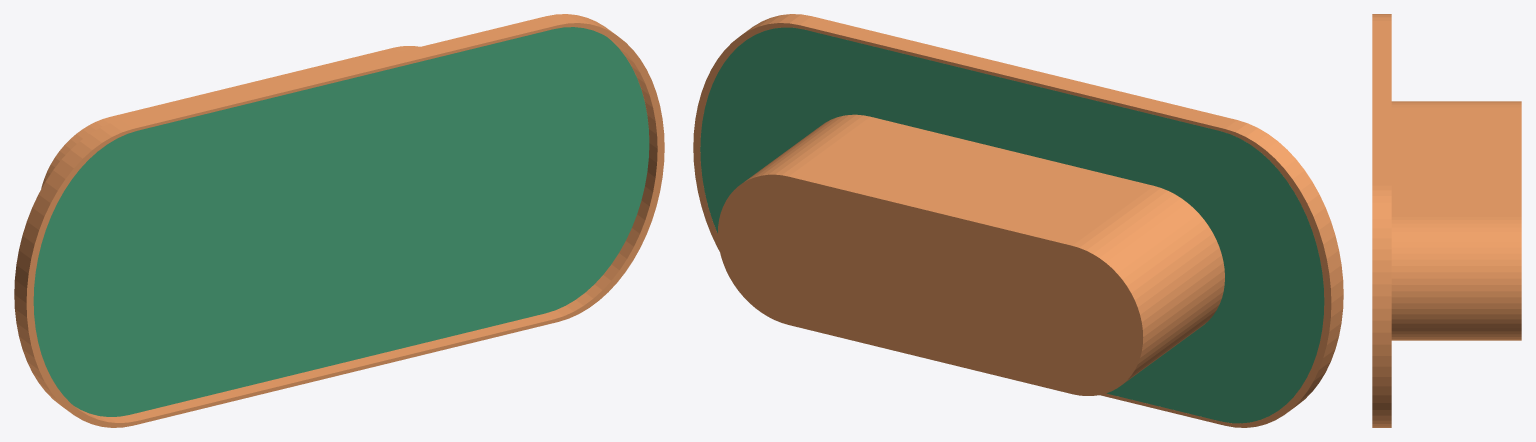
File: tinker.gltf
The picture shows the model from 3 angles, left to right: view 1: azimuth 30°, elevation 25°; view 2: azimuth 150°, elevation 25°; view 3: azimuth 270°, elevation 25°; orthographic projection. The views are drawn at different scales.
Visible parts, largest first — view 1: node-0; view 2: node-0; view 3: node-0.
Boxes of the visible parts, x1,y1,x2,y2 form: node-0: (14, 14, 664, 427); node-0: (693, 14, 1343, 427); node-0: (1372, 14, 1521, 427).
Bounding box in the file's own units: 90 × 40 × 23.
